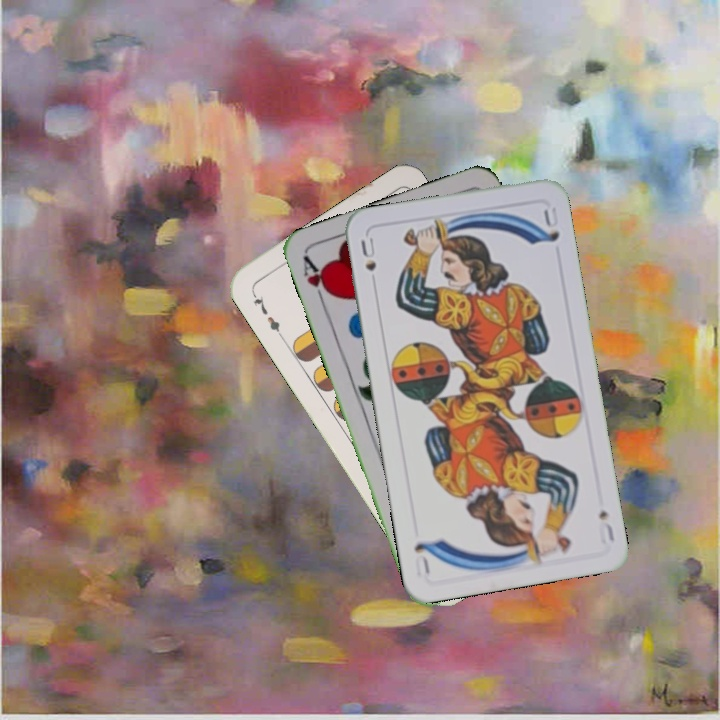E7: (247, 288, 286, 341)
HA: (298, 253, 335, 310)
SU: (594, 505, 617, 546), (357, 233, 379, 274)
